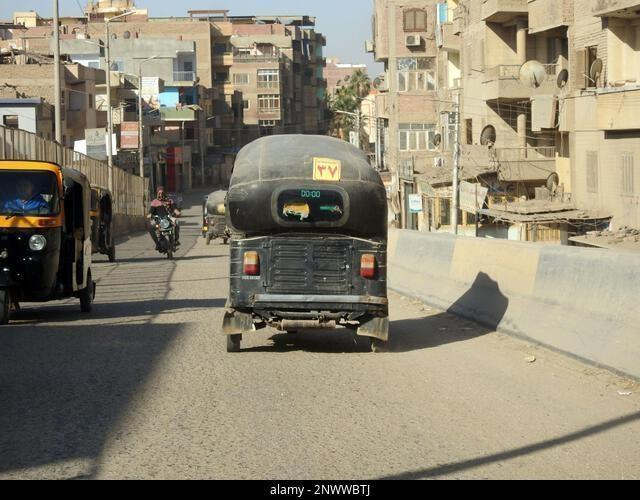keke: (223, 128, 395, 348), (0, 159, 94, 324)
